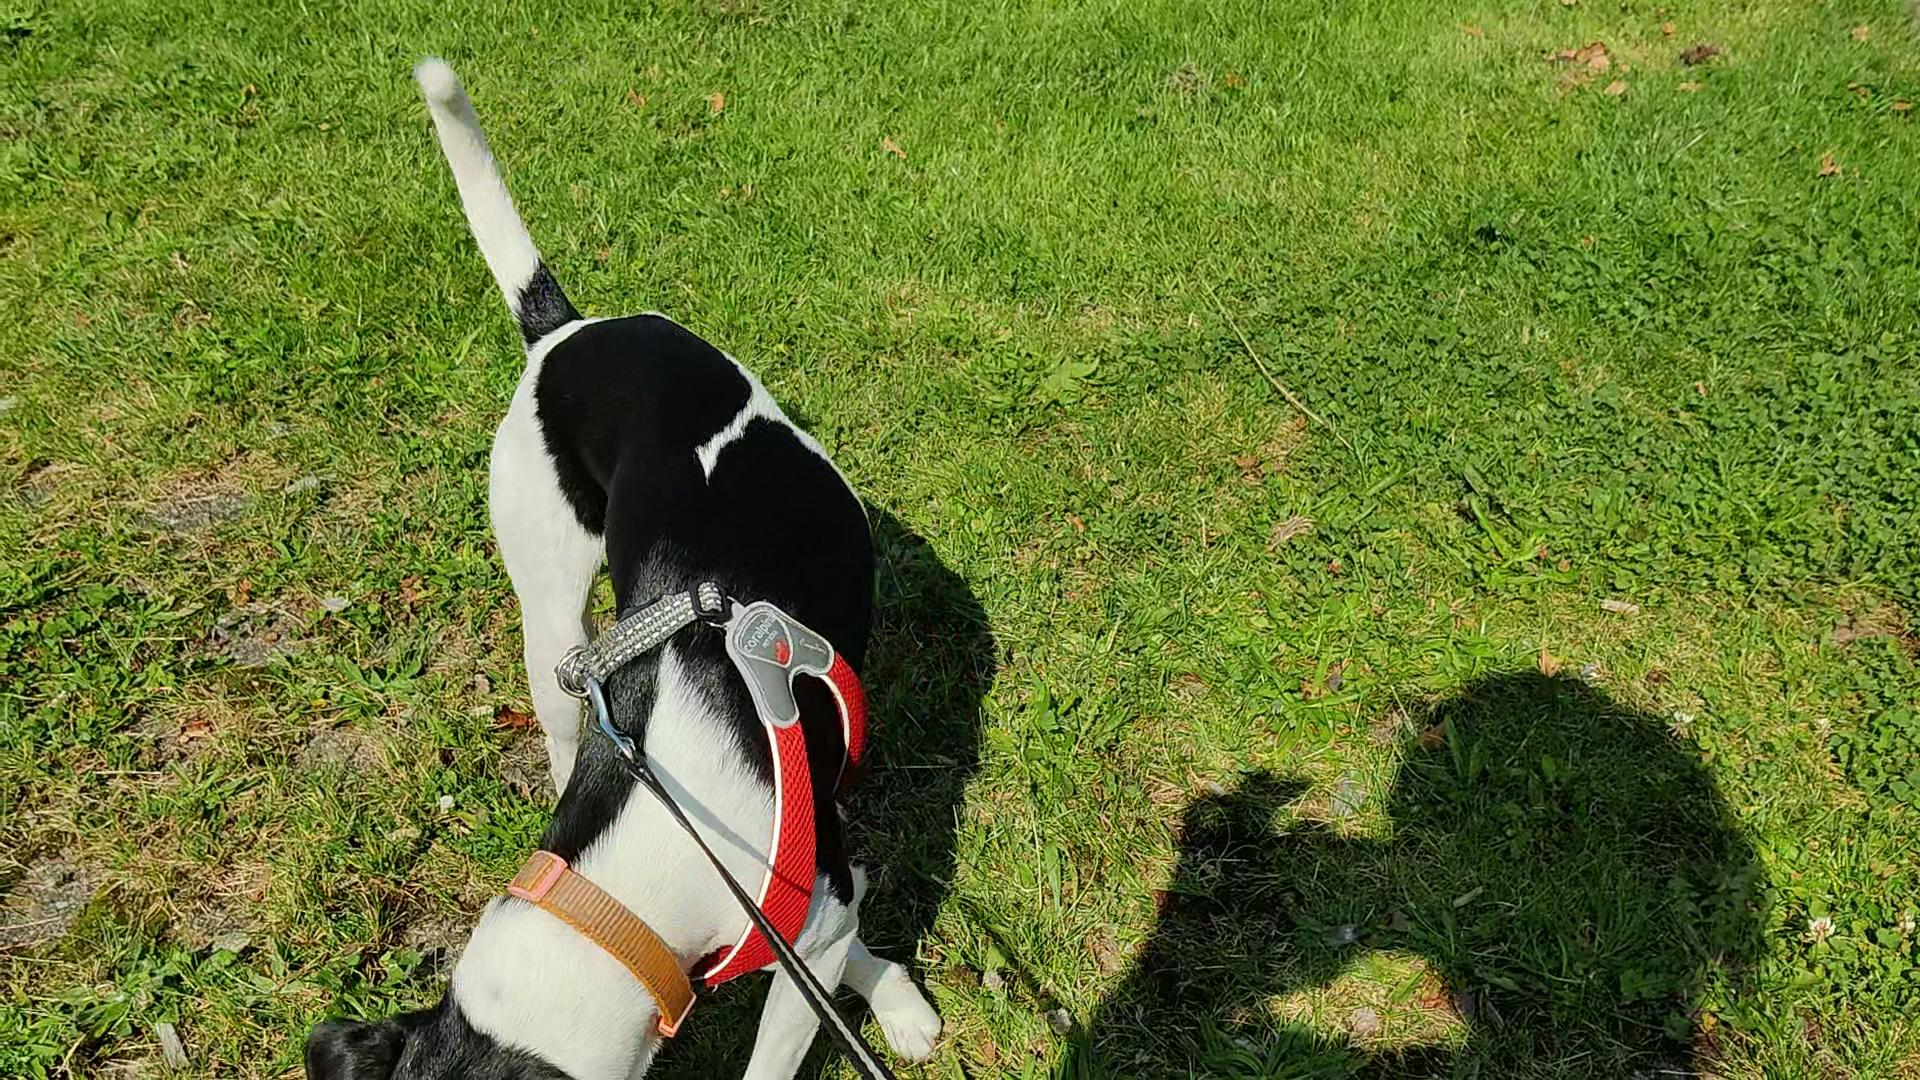Dog: (293, 46, 957, 1079)
